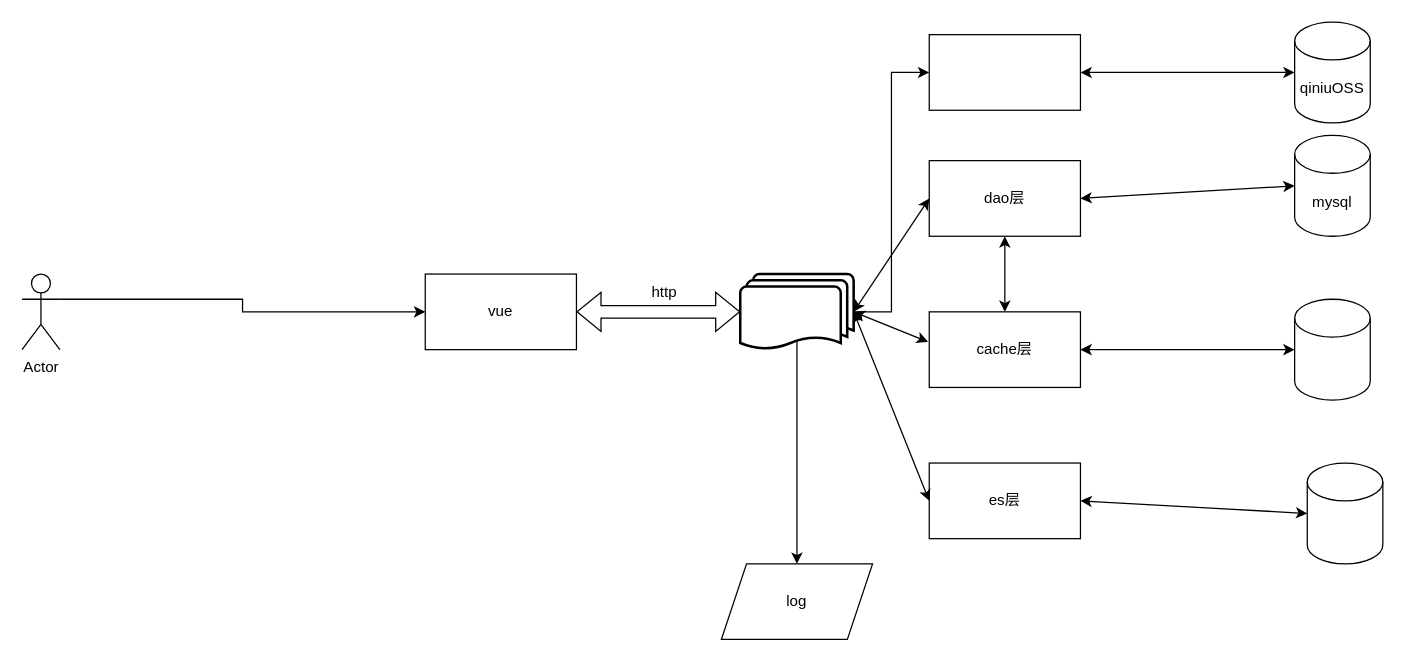
Some shapes in this 1405 by 662 pixel diagram are drawn without their labels. Each missing label, with the centre of its shape:
api-services: the point at 796,311
es: the point at 1344,513
oss连接: the point at 1004,71
redis: the point at 1331,349
